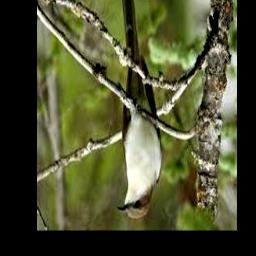Cuckoo: (120, 0, 163, 219)
